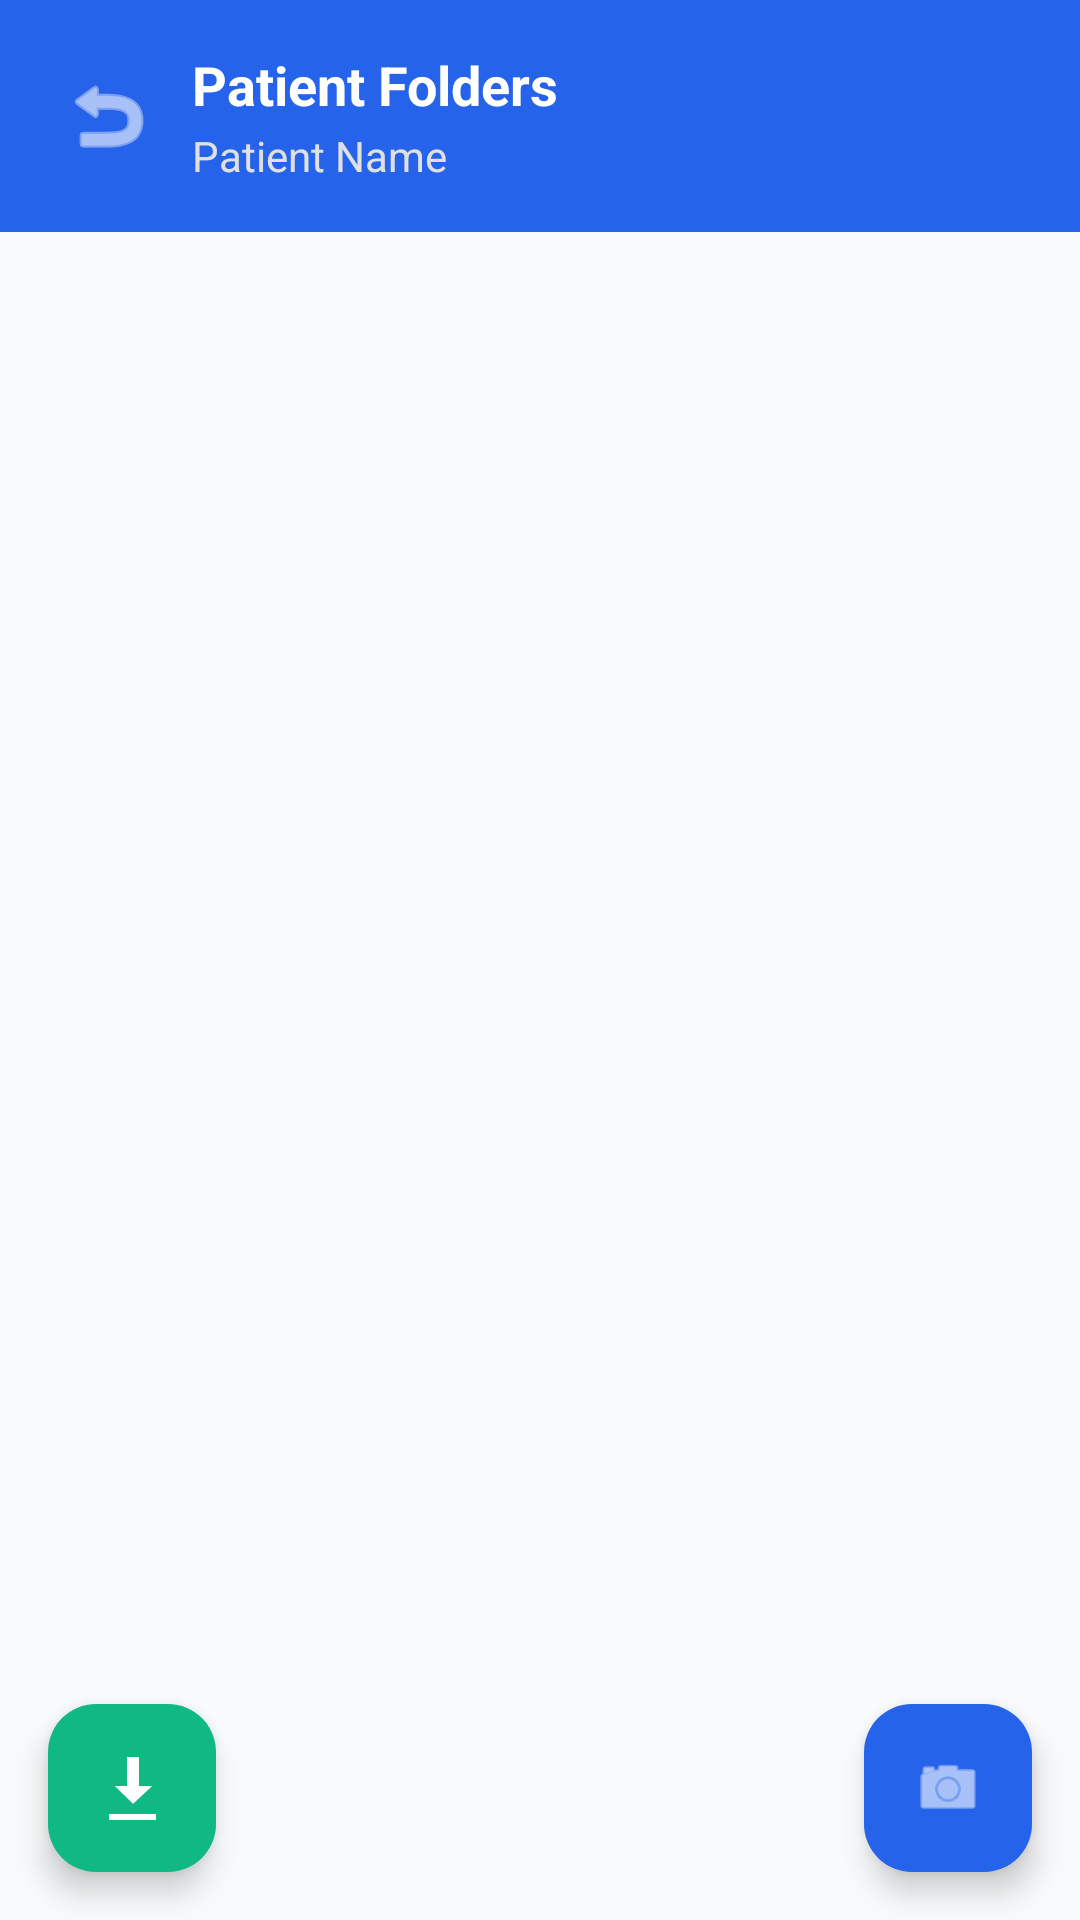

Named icons in this screenshot (1080x1920) and their centers, (x=x, y=y):
camera: (x=948, y=1788)
download: (x=132, y=1788)
revert: (x=109, y=116)
